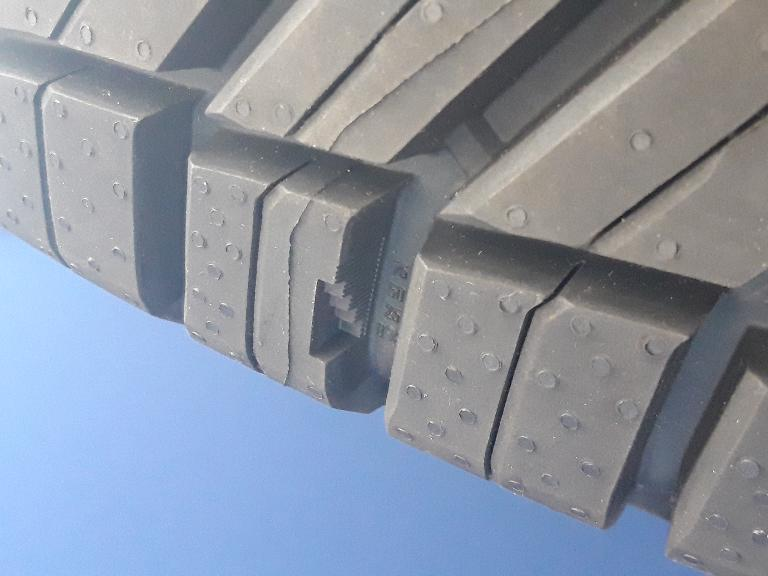temoin:100: (307, 262, 381, 366)
